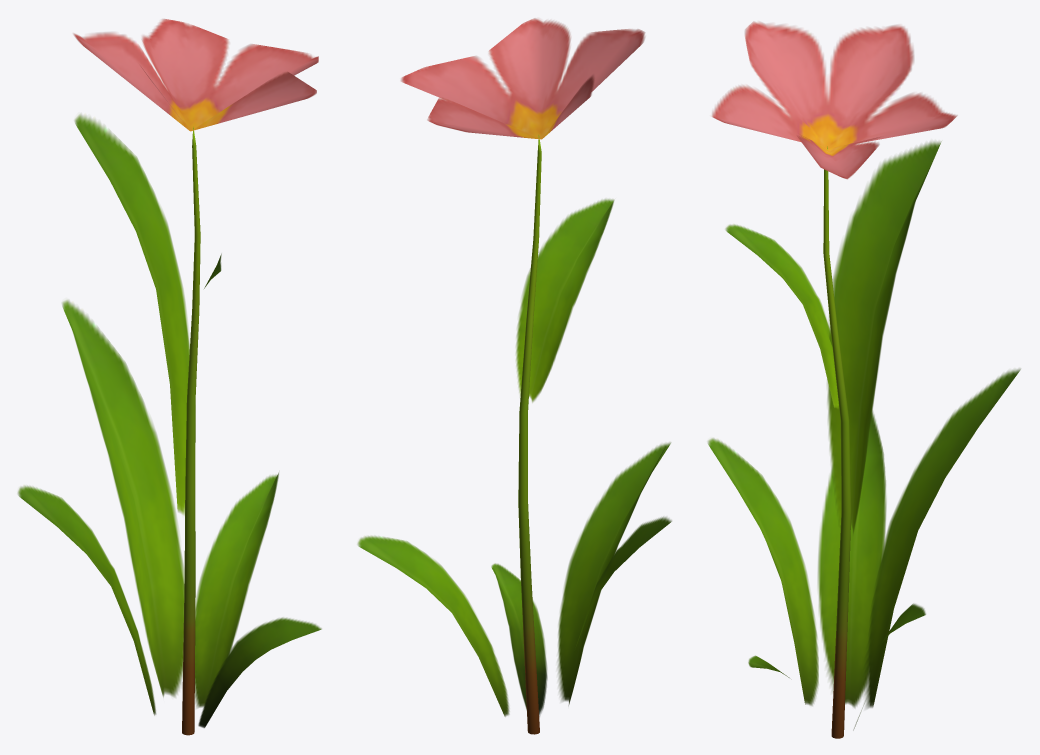
File: flower-single-1.glb
The picture shows the model from 3 angles, left to right: view 1: azimuth 30°, elevation 25°; view 2: azimuth 150°, elevation 25°; view 3: azimuth 270°, elevation 25°; orthographic projection. The views are drawn at different scales.
Parts seen in each view (by area): view 1: Flower_3_Single; view 2: Flower_3_Single; view 3: Flower_3_Single.
Part boxes in pixels (x1=…): Flower_3_Single: x1=18, y1=19, x2=321, y2=735; Flower_3_Single: x1=357, y1=18, x2=671, y2=734; Flower_3_Single: x1=708, y1=21, x2=1020, y2=738.
Size of the model in its own units: 0.9066 by 2.07 by 0.8775.
2 materials, 2 textured.
